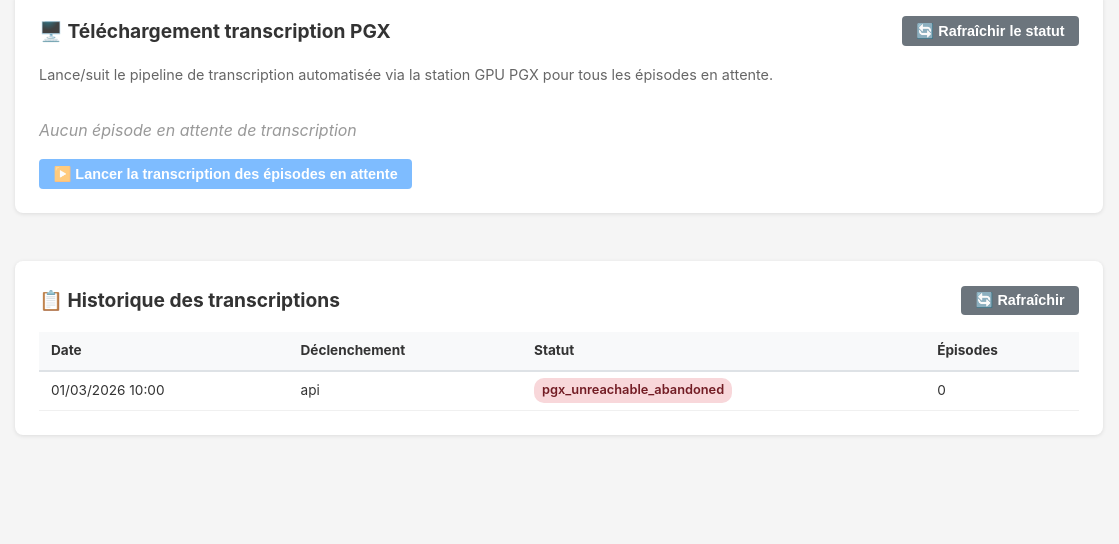
PgxTranscription (Issue #302) › Historique (Issue #309) › affiche 'toujours injoignable' quand le retry a été abandonné sans jamais réussir
Step 1. Click the row "01/03/2026 10:00 api pgx_unreachable_abandoned 0" → (559, 390), box 39,371 -> 1079,410
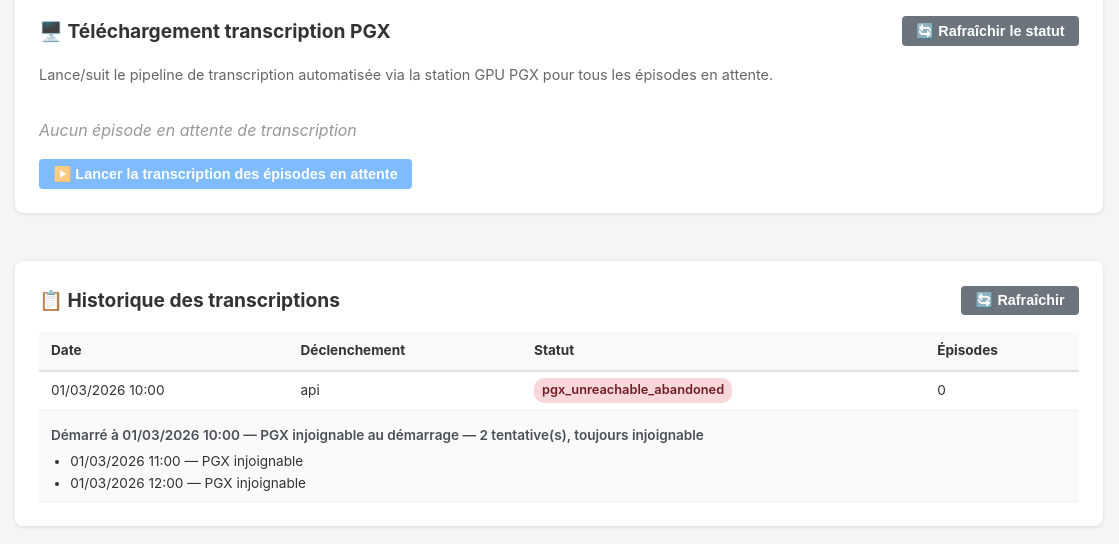
Now the element with class "log-detail" shows "toujours injoignable", box 51,427 -> 704,443
Now the element with class "log-detail" shows "2 tentative(s)", box 51,427 -> 704,443
